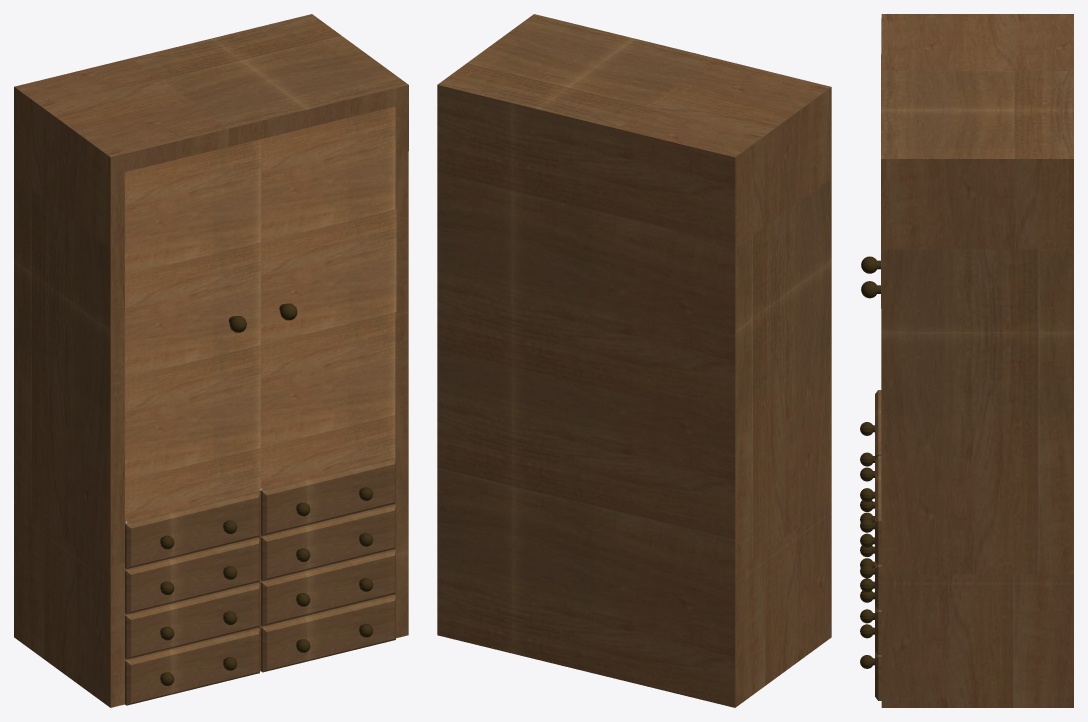
The model's file is closet.fbx.
The picture shows the model from 3 angles, left to right: view 1: azimuth 30°, elevation 25°; view 2: azimuth 150°, elevation 25°; view 3: azimuth 270°, elevation 25°; orthographic projection.
Visible parts, largest first — view 1: pasted__pasted__polySurface21; view 2: pasted__pasted__polySurface21; view 3: pasted__pasted__polySurface21.
Boxes of the visible parts, bbox=[...] form: pasted__pasted__polySurface21: bbox=[14, 14, 408, 707]; pasted__pasted__polySurface21: bbox=[437, 14, 831, 707]; pasted__pasted__polySurface21: bbox=[860, 14, 1073, 707].
Bounding box in the file's own units: 54.88 × 96.91 × 34.21.
2 materials, 1 textured.
